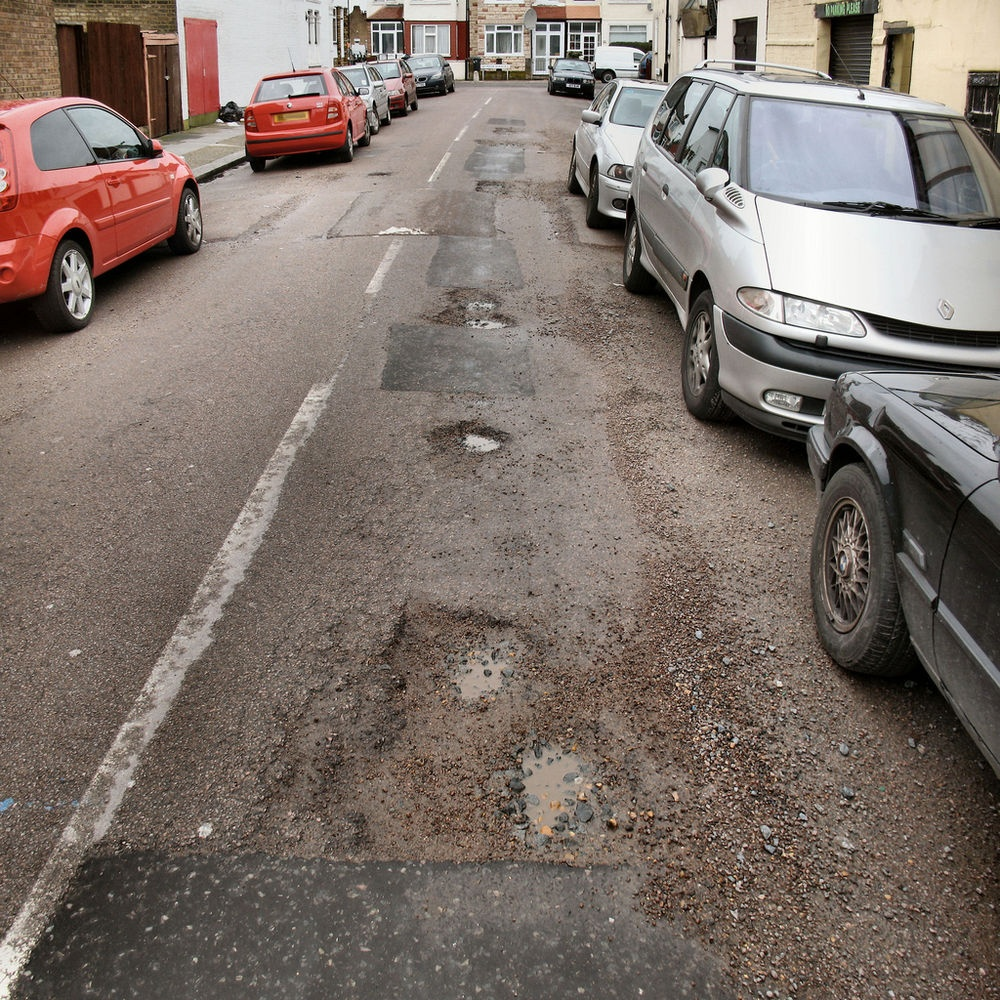pothole: (392, 593, 535, 706), (515, 736, 610, 851), (444, 273, 526, 349), (438, 425, 525, 467), (478, 136, 545, 154), (475, 174, 507, 195), (369, 167, 397, 180), (497, 127, 525, 132)
